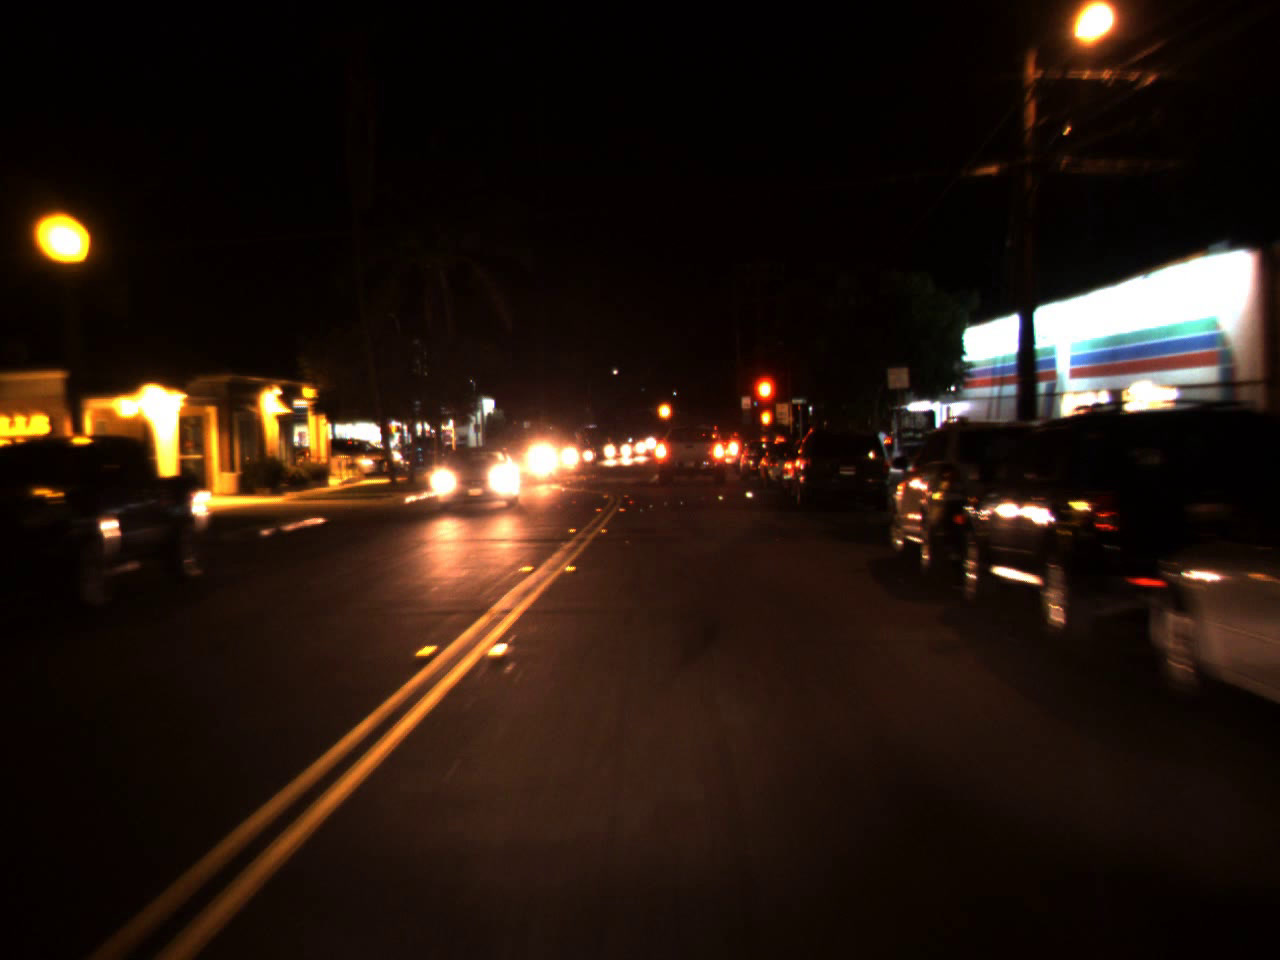stop: (748, 372, 779, 436)
warning: (654, 392, 673, 429)
